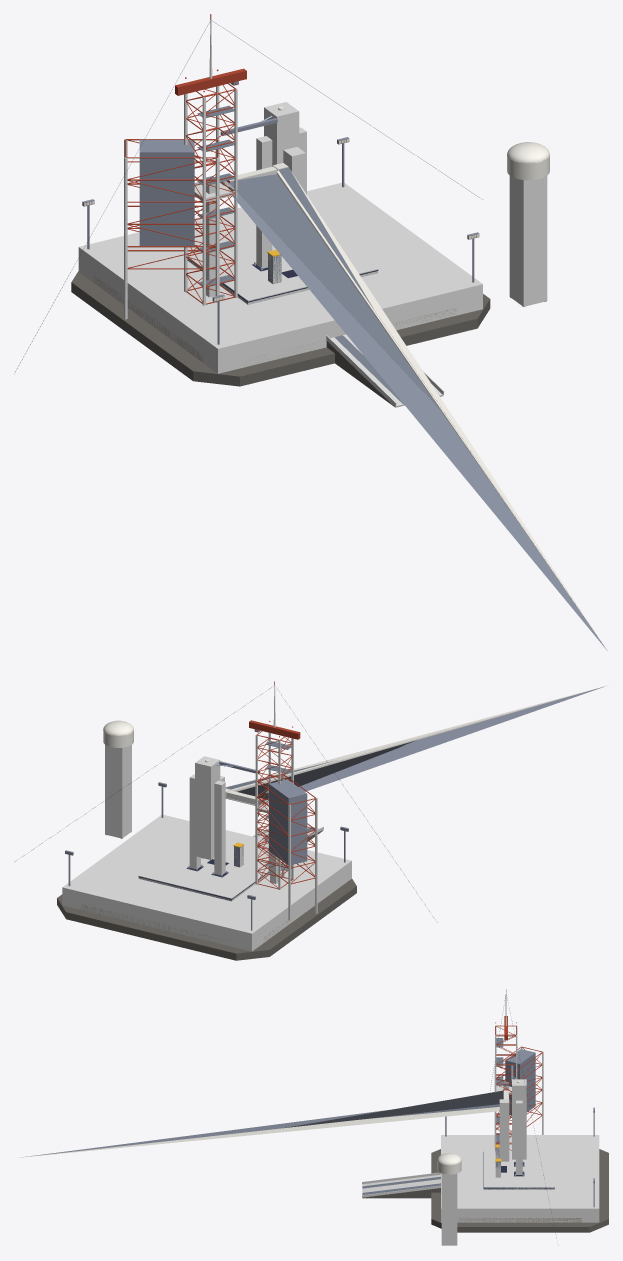
The model's file is PlataformaLancamento.fbx.
The picture shows the model from 3 angles, top to bottom: view 1: azimuth 30°, elevation 25°; view 2: azimuth 150°, elevation 25°; view 3: azimuth 270°, elevation 25°; orthographic projection. The views are drawn at different scales.
Parts seen in each view (by area): view 1: ZONA_Plataforma, Plataforma_BracoAcesso, Plataforma_Base, Plataforma_EstruturaRotativa, Plataforma_Torre, COL_CaixaAgua, COL_MLP, COL_Deck, COL_Tanque, COL_Booster_-1, COL_FSS_Pilar_7_276; view 2: ZONA_Plataforma, Plataforma_Base, Plataforma_BracoAcesso, Plataforma_EstruturaRotativa, COL_MLP, COL_CaixaAgua, Plataforma_Torre, COL_Tanque, COL_Deck, COL_Booster_-1, COL_Booster_1; view 3: ZONA_Plataforma, Plataforma_Base, Plataforma_BracoAcesso, COL_MLP, Plataforma_EstruturaRotativa, COL_CaixaAgua, Plataforma_Torre, COL_Tanque, COL_Deck, COL_Orbitador, COL_Rampa, COL_Booster_1.
Boxes of the visible parts, x1,y1,x2,y2 form: ZONA_Plataforma: [78, 182, 482, 365]; Plataforma_BracoAcesso: [228, 163, 607, 650]; Plataforma_Base: [71, 137, 549, 406]; Plataforma_EstruturaRotativa: [125, 139, 218, 269]; Plataforma_Torre: [15, 14, 482, 371]; COL_CaixaAgua: [509, 176, 547, 306]; COL_MLP: [188, 237, 377, 304]; COL_Deck: [78, 264, 482, 373]; COL_Tanque: [264, 102, 299, 166]; COL_Booster_-1: [256, 136, 272, 268]; COL_FSS_Pilar_7_276: [202, 97, 205, 305]; ZONA_Plataforma: [62, 815, 351, 945]; Plataforma_Base: [57, 720, 356, 960]; Plataforma_BracoAcesso: [225, 686, 605, 816]; Plataforma_EstruturaRotativa: [257, 774, 316, 884]; COL_MLP: [138, 843, 268, 900]; COL_CaixaAgua: [105, 745, 131, 838]; Plataforma_Torre: [15, 681, 437, 922]; COL_Tanque: [195, 756, 220, 859]; COL_Deck: [62, 873, 351, 951]; COL_Booster_-1: [214, 780, 225, 875]; COL_Booster_1: [189, 774, 200, 869]; ZONA_Plataforma: [441, 1135, 599, 1217]; Plataforma_Base: [362, 1107, 608, 1232]; Plataforma_BracoAcesso: [17, 1090, 508, 1157]; COL_MLP: [483, 1151, 554, 1189]; Plataforma_EstruturaRotativa: [496, 1046, 542, 1132]; COL_CaixaAgua: [441, 1173, 457, 1245]; Plataforma_Torre: [490, 989, 558, 1245]; COL_Tanque: [512, 1079, 526, 1159]; COL_Deck: [441, 1218, 599, 1222]; COL_Orbitador: [499, 1099, 509, 1161]; COL_Rampa: [362, 1174, 440, 1197]; COL_Booster_1: [516, 1100, 522, 1174].
Bounding box in the file's own units: 20004 × 11362 × 34152.
